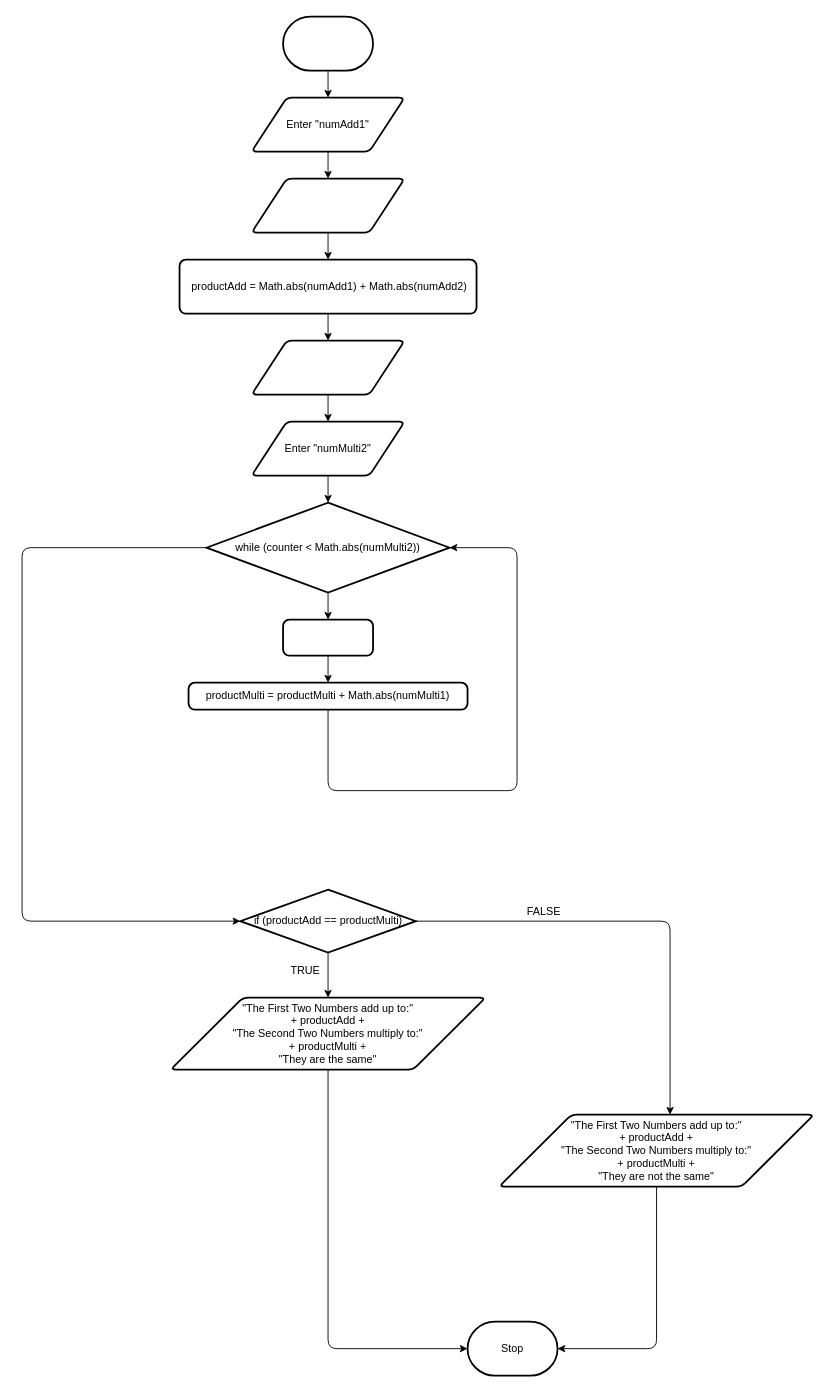
This 831x1391 diagram has some shape labels left out. The shapes that lost their labels are listed below. From the top down, each one's centre as x and y in pixels, then its label:
pixel 328 43: Start
pixel 327 205: Enter "numAdd2"
pixel 327 367: Enter "numMulti1"
pixel 328 637: counter++
